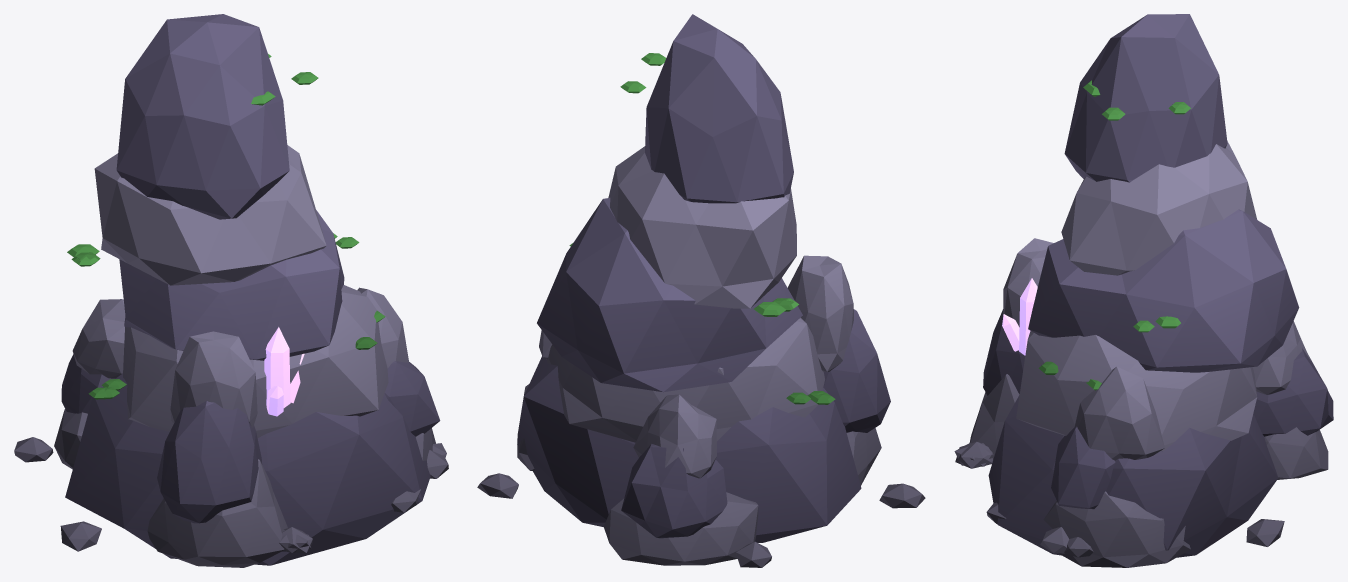
Rendered from cliff_a.glb.
3 renders of one model, left to right at view 1: azimuth 30°, elevation 25°; view 2: azimuth 150°, elevation 25°; view 3: azimuth 270°, elevation 25°, orthographic. The views are drawn at different scales.
Parts seen in each view (by area): view 1: t0_rock, t0_rock_light, t0_crystal_violet, t0_moss; view 2: t0_rock, t0_rock_light, t0_moss; view 3: t0_rock, t0_rock_light, t0_moss, t0_crystal_violet.
Boxes of the visible parts, x1,y1,x2,y2 form: t0_rock: [61, 14, 440, 565]; t0_rock_light: [14, 145, 448, 567]; t0_crystal_violet: [264, 327, 304, 416]; t0_moss: [67, 54, 385, 399]; t0_rock: [517, 14, 890, 542]; t0_rock_light: [477, 146, 925, 567]; t0_moss: [569, 53, 835, 404]; t0_rock: [983, 14, 1333, 557]; t0_rock_light: [954, 141, 1328, 567]; t0_moss: [1038, 80, 1190, 390]; t0_crystal_violet: [1002, 278, 1037, 355].
Size of the model in its own units: 4.54 by 5.73 by 4.04.
